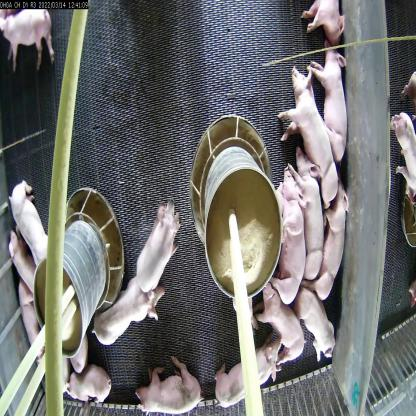Pig: (267, 47, 340, 212), (208, 336, 280, 416), (131, 202, 186, 303), (84, 280, 164, 342), (311, 178, 350, 300), (133, 357, 205, 415), (0, 0, 55, 71), (270, 180, 303, 296), (260, 283, 308, 360), (292, 282, 337, 364), (298, 161, 326, 288), (12, 182, 60, 253), (313, 51, 345, 154), (54, 363, 110, 416)
